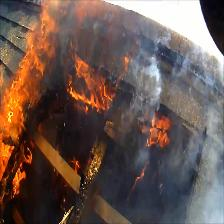fire: (70, 69, 108, 116), (27, 21, 51, 76), (8, 80, 28, 140)
smoke: (140, 60, 167, 108)
